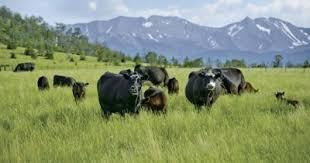cow: (96, 70, 149, 117), (184, 69, 225, 113), (204, 67, 245, 96), (134, 62, 169, 88), (140, 87, 168, 115), (273, 92, 299, 107), (71, 82, 90, 101), (53, 74, 76, 87), (166, 77, 181, 96), (243, 81, 260, 94), (13, 62, 35, 71), (37, 76, 49, 90)
